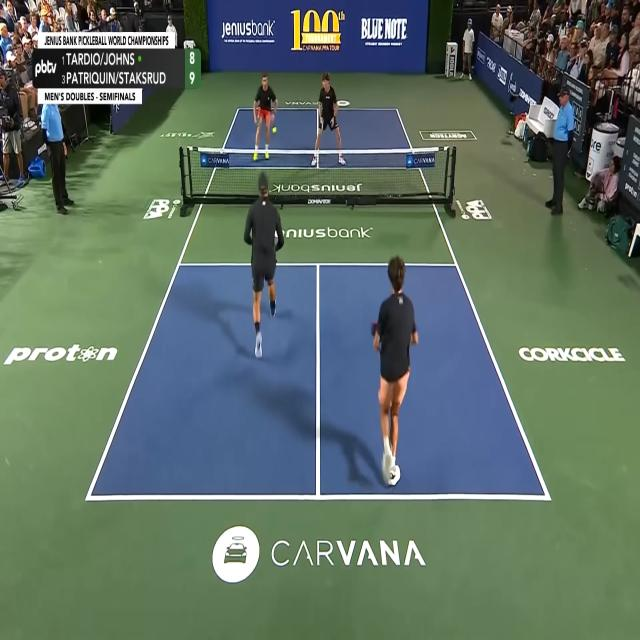ball: (272, 126, 277, 135)
